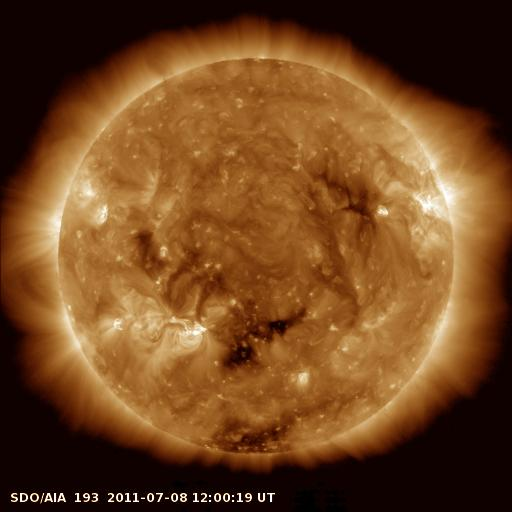coronal_hole: (217, 314, 303, 368), (206, 415, 290, 455)
